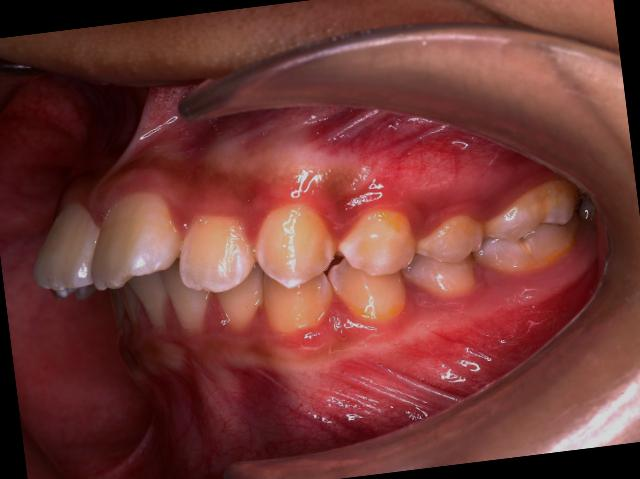canine class II 1/2: (249, 189, 410, 345)
molar class II 1/4: (465, 175, 593, 283)
